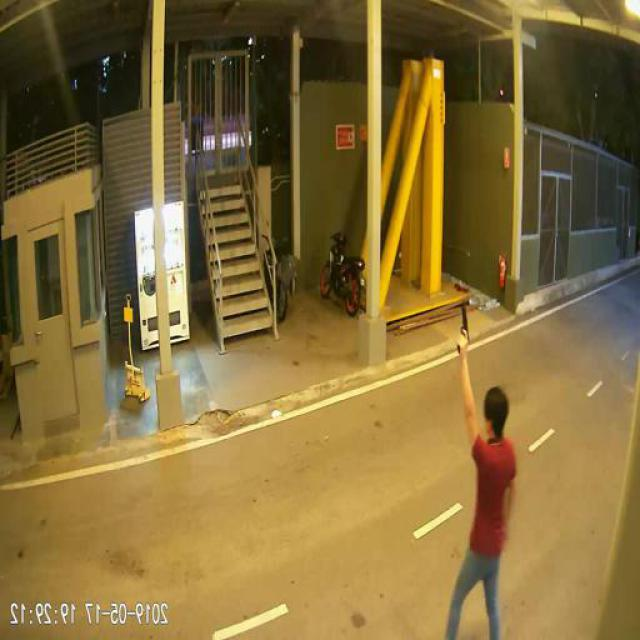Gun: (459, 300, 470, 352)
